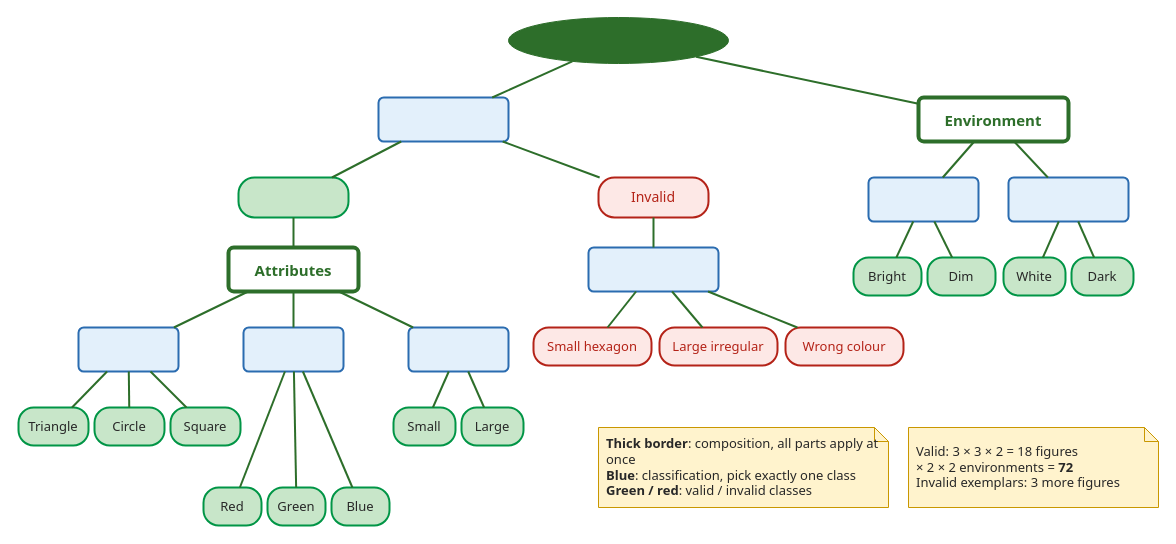
The diagram is 1176 pixels wide and 544 high, and some of its shapes have lost their labels. The centre of each missing label's shape, as x and y in pixels:
"Background" belongs at point 1068,199.
"Colour" belongs at point 293,349.
"Exemplar" belongs at point 653,269.
"Figure" belongs at point 443,119.
"Lighting" belongs at point 923,199.
"Machine vision system" belongs at point 618,40.
"Shape" belongs at point 128,349.
"Size" belongs at point 458,349.
"Valid" belongs at point 293,197.
